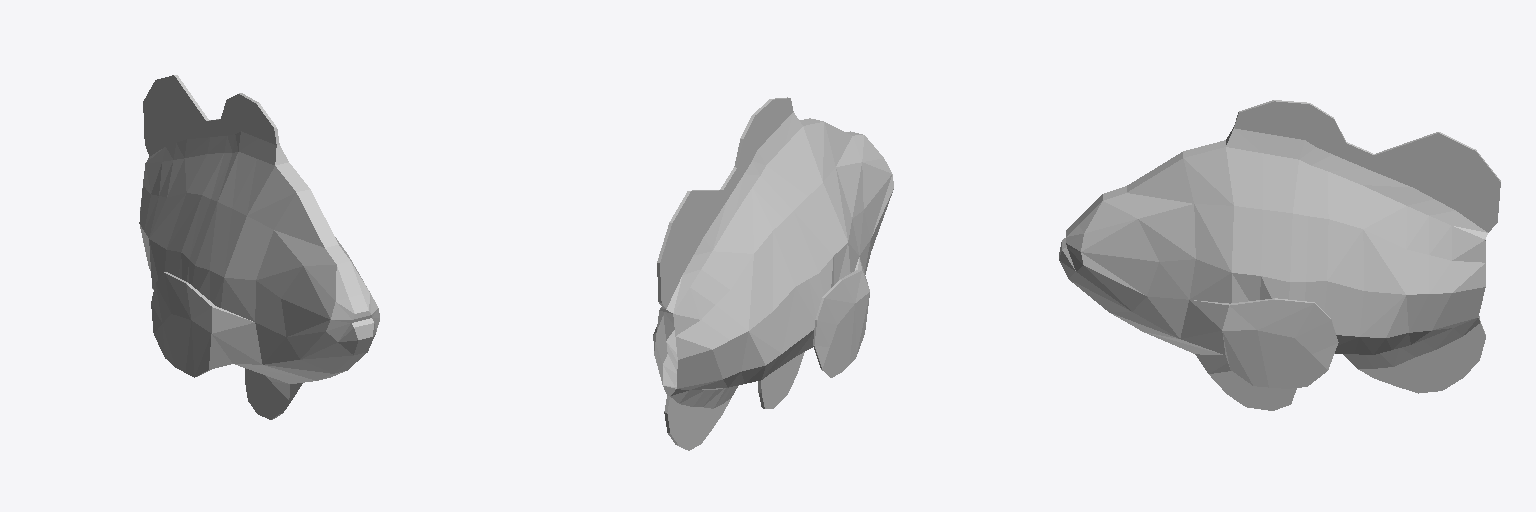
Rendered from CuerpoPez.obj.
3 views of the same model, side by side, from view 1: azimuth 30°, elevation 25°; view 2: azimuth 150°, elevation 25°; view 3: azimuth 270°, elevation 25° (orthographic).
Parts seen in each view (by area): view 1: polySurface1 TropicalFish12:TropicalFish12; view 2: polySurface1 TropicalFish12:TropicalFish12; view 3: polySurface1 TropicalFish12:TropicalFish12.
Part boxes in pixels (x1,y1,x2,y2): polySurface1 TropicalFish12:TropicalFish12: (139, 75, 379, 419); polySurface1 TropicalFish12:TropicalFish12: (653, 97, 893, 450); polySurface1 TropicalFish12:TropicalFish12: (1059, 100, 1500, 410).
Bounding box in the file's own units: 1.35 × 2.54 × 3.29.